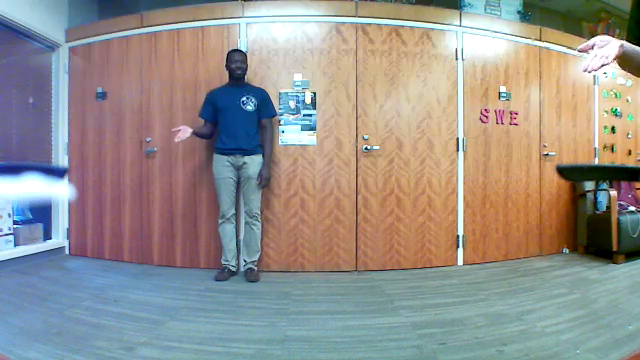land: (570, 22, 631, 75), (166, 121, 198, 147)
